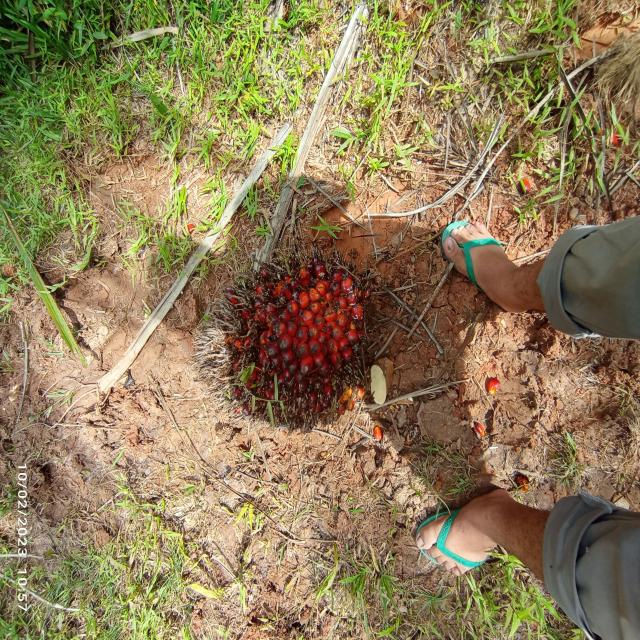fraksi 3: (176, 234, 411, 469)
